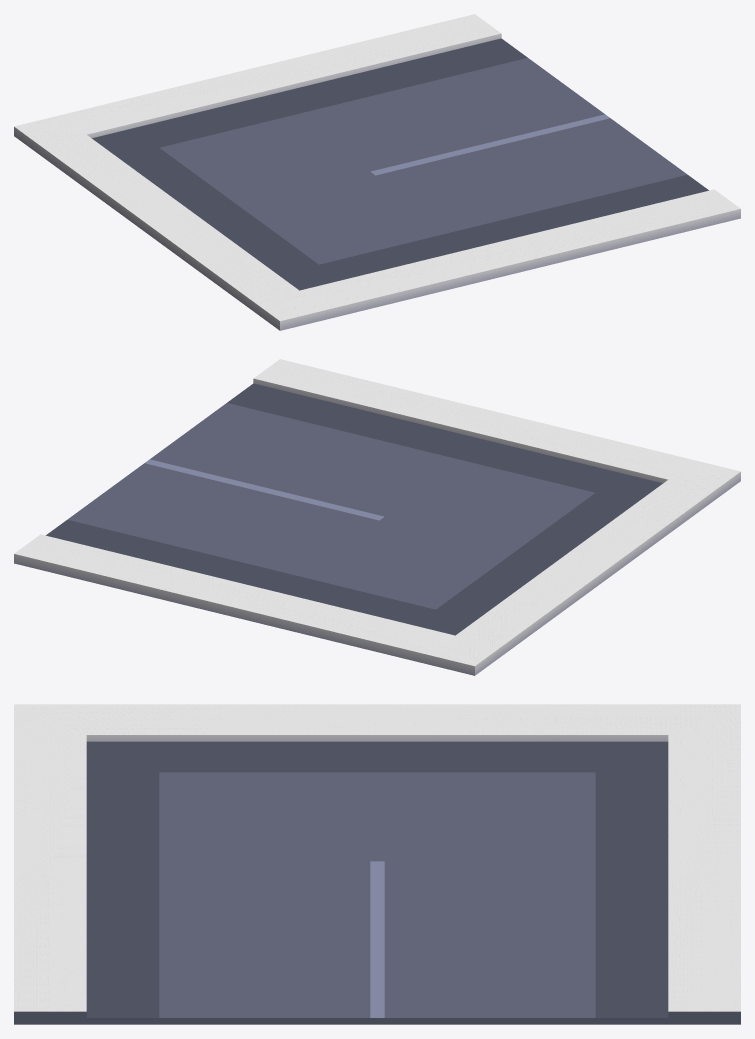
Rendered from road_end.glb.
3 views of the same model, one above another, from view 1: azimuth 30°, elevation 25°; view 2: azimuth 150°, elevation 25°; view 3: azimuth 270°, elevation 25° (orthographic). The views are drawn at different scales.
Visible parts, largest first — view 1: road-end; view 2: road-end; view 3: road-end.
Part boxes in pixels (x1,y1,x2,y2): road-end: (14, 14, 740, 330); road-end: (14, 359, 740, 675); road-end: (14, 704, 740, 1024).
Bounding box in the file's own units: 1 × 0.02 × 1.
1 material, 1 textured.
